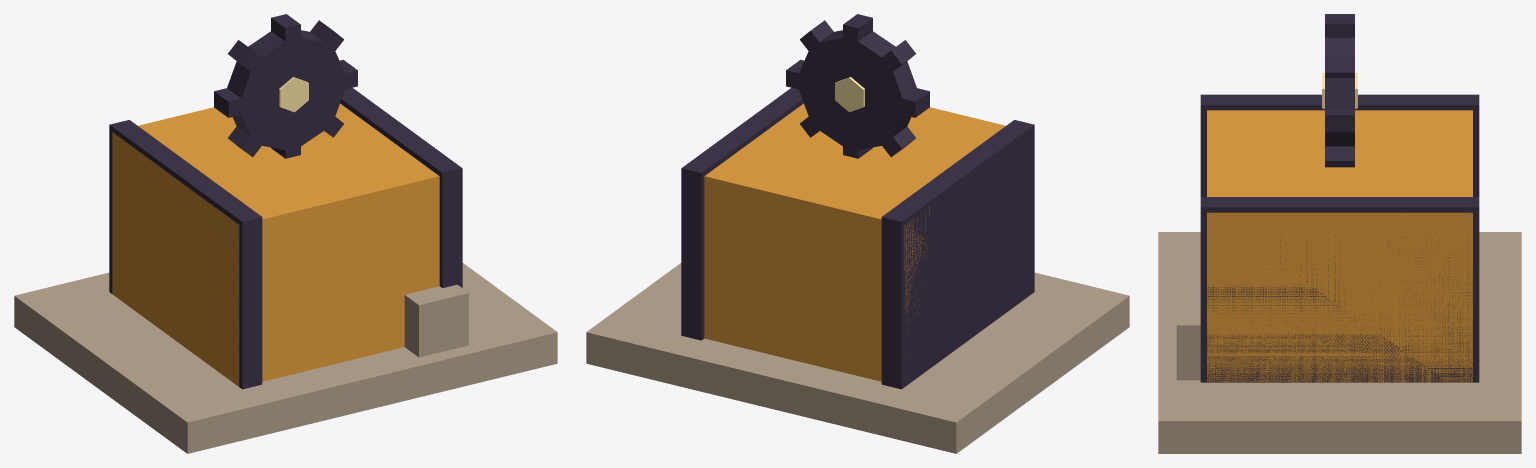
The model's file is factory-landmark-s1.glb.
3 views of the same model, side by side, from view 1: azimuth 30°, elevation 25°; view 2: azimuth 150°, elevation 25°; view 3: azimuth 270°, elevation 25° (orthographic). The views are drawn at different scales.
Parts seen in each view (by area): view 1: factory-landmark-s1; view 2: factory-landmark-s1; view 3: factory-landmark-s1.
Boxes of the visible parts, bbox=[...] form: factory-landmark-s1: bbox=[14, 14, 557, 453]; factory-landmark-s1: bbox=[586, 14, 1129, 453]; factory-landmark-s1: bbox=[1158, 14, 1521, 453].
Bounding box in the file's own units: 0.74 × 0.6192 × 0.6.
